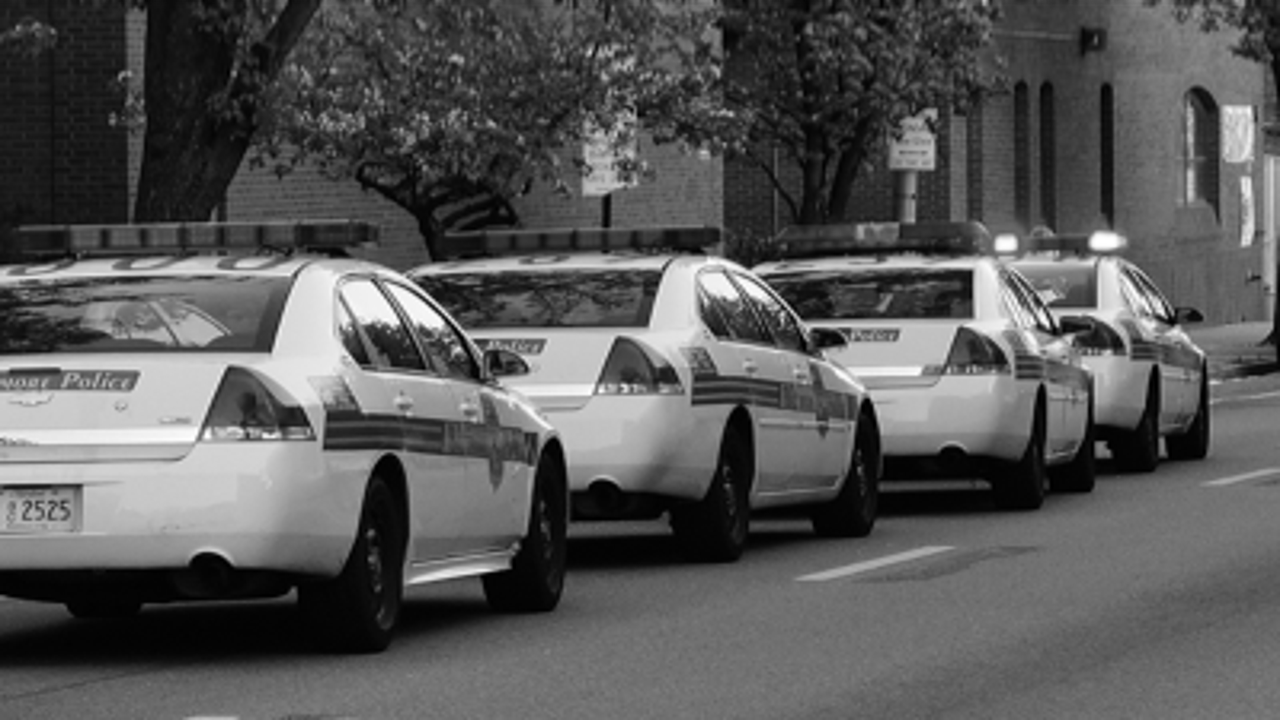license: (1, 481, 81, 533)
